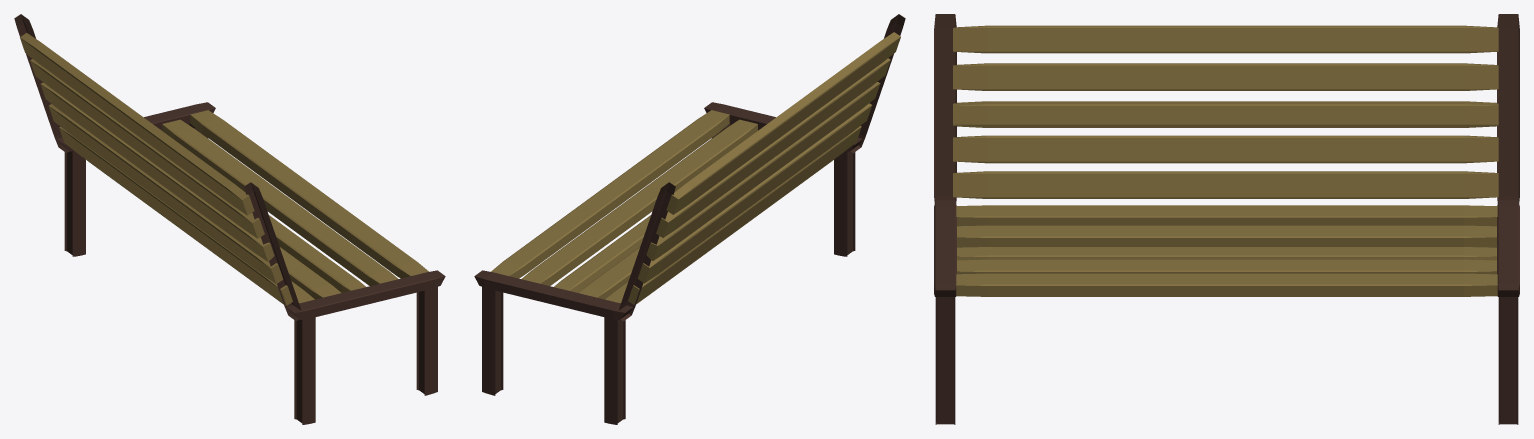
Rendered from ベンチ.fbx.
The picture shows the model from 3 angles, left to right: view 1: azimuth 30°, elevation 25°; view 2: azimuth 150°, elevation 25°; view 3: azimuth 270°, elevation 25°; orthographic projection. The views are drawn at different scales.
Parts seen in each view (by area): view 1: Cube.004; view 2: Cube.004; view 3: Cube.004.
Boxes of the visible parts, x1,y1,x2,y2 form: Cube.004: [14, 14, 445, 424]; Cube.004: [474, 14, 905, 424]; Cube.004: [934, 14, 1519, 424].
Bounding box in the file's own units: 64.84 × 78.45 × 136.
